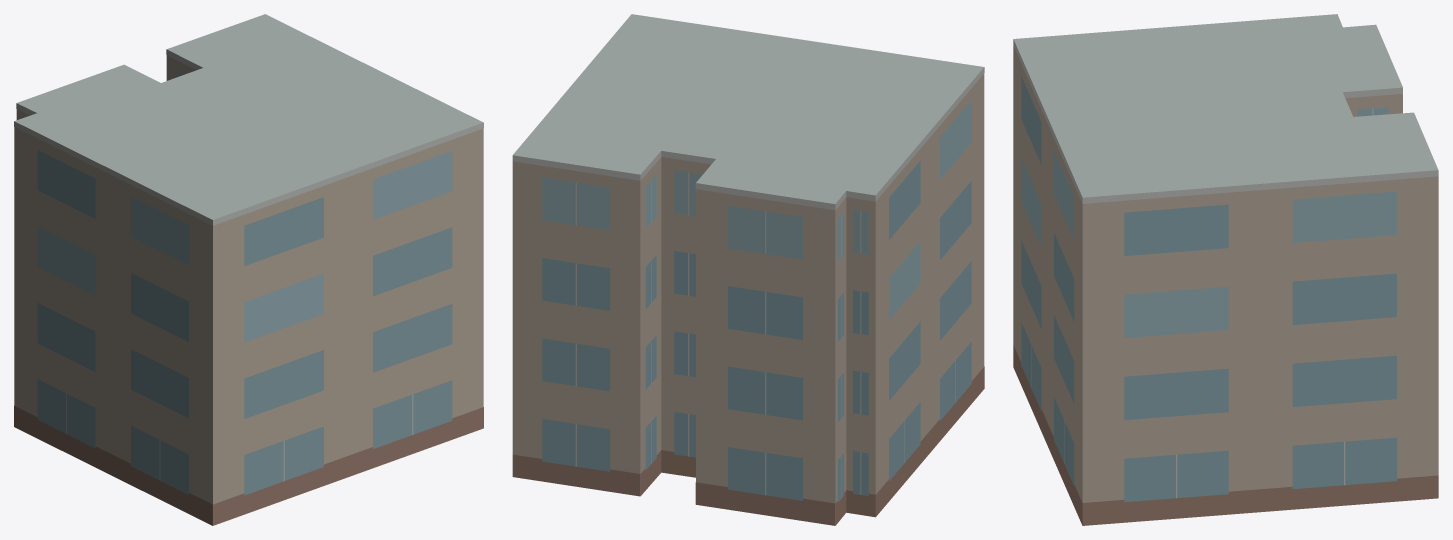
File: survey-upis-32738034.glb
3 views of the same model, side by side, from view 1: azimuth 30°, elevation 25°; view 2: azimuth 150°, elevation 25°; view 3: azimuth 270°, elevation 25° (orthographic). The views are drawn at different scales.
Visible parts, largest first — view 1: survey-upis-32738034.tmp; view 2: survey-upis-32738034.tmp; view 3: survey-upis-32738034.tmp.
Boxes of the visible parts, x1,y1,x2,y2 form: survey-upis-32738034.tmp: (14,14,483,525); survey-upis-32738034.tmp: (512,14,984,525); survey-upis-32738034.tmp: (1013,14,1438,525).
Bounding box in the file's own units: 15.45 × 12.86 × 15.11.
